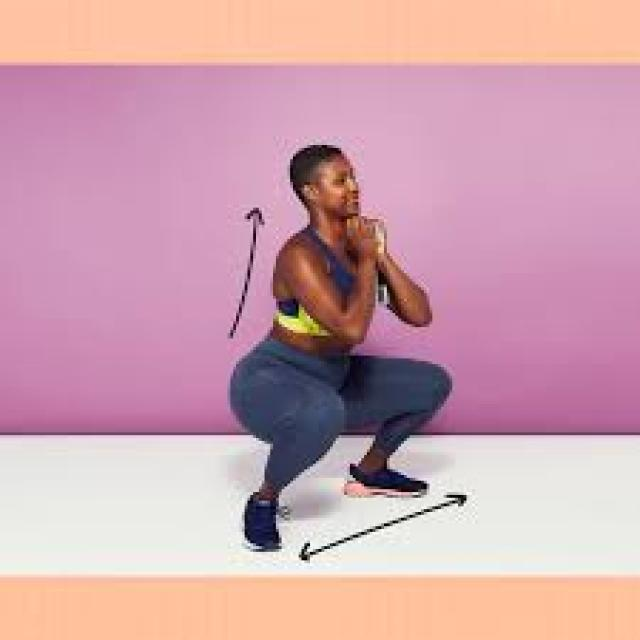squat: (232, 144, 454, 551)
